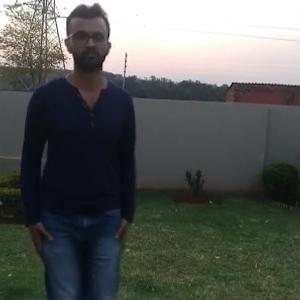follow: (10, 0, 135, 299)
